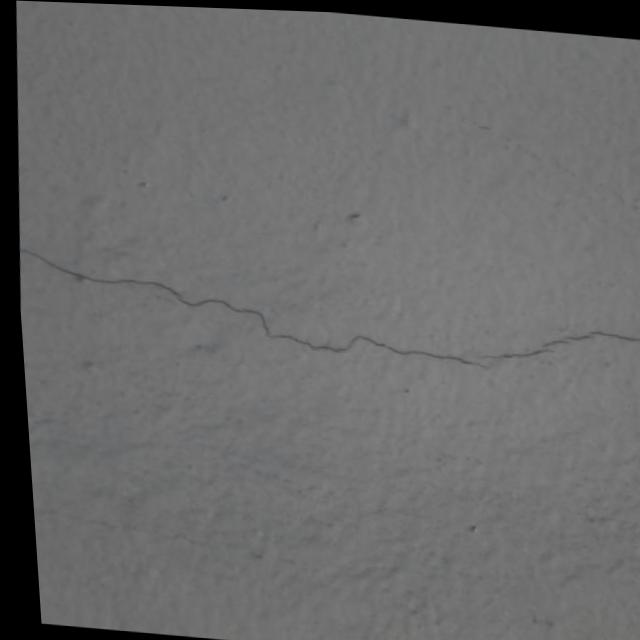Crack: (12, 225, 640, 403)
